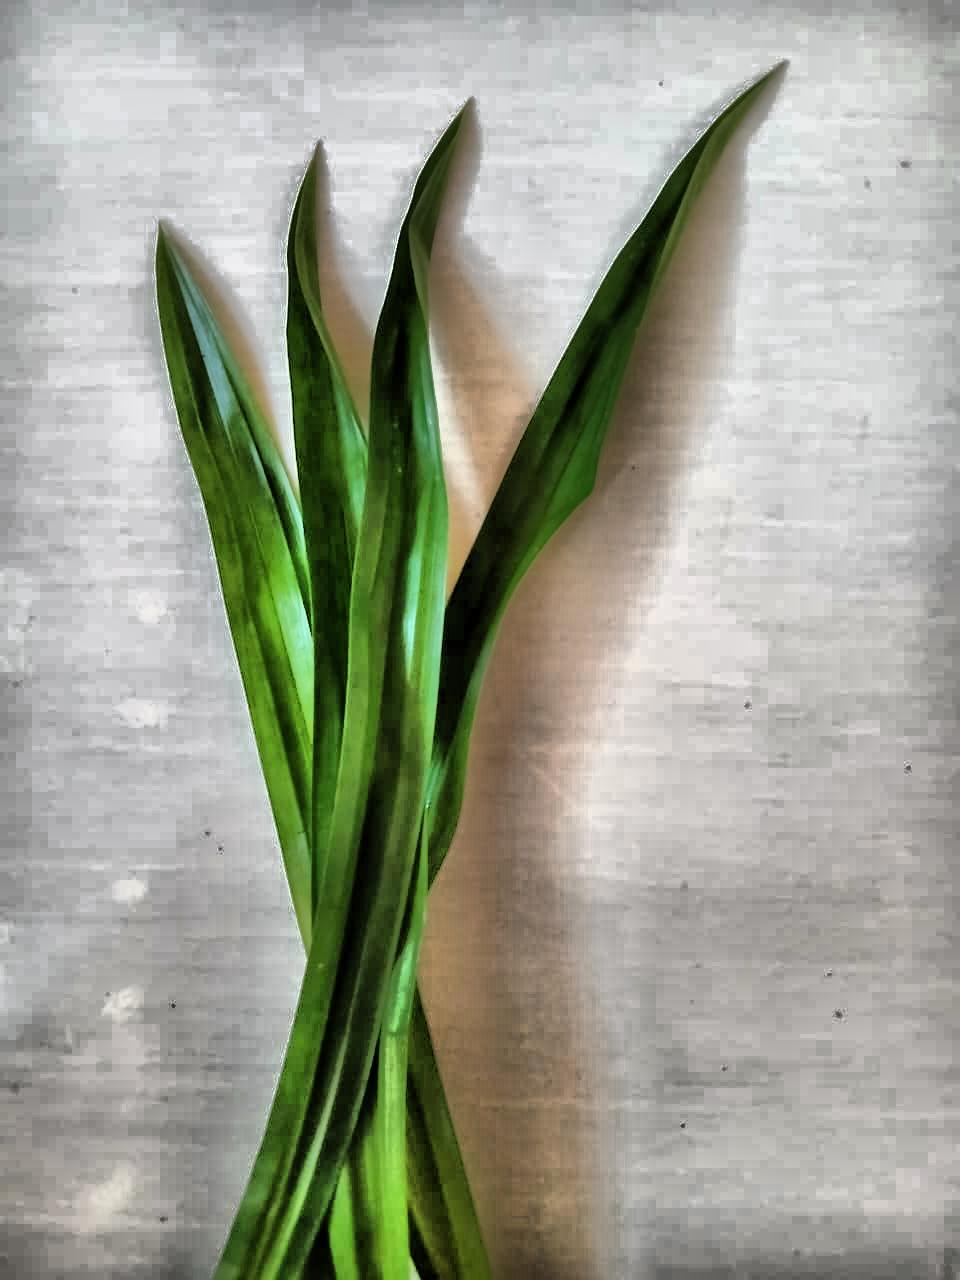daun pandan: (157, 73, 771, 1279)
